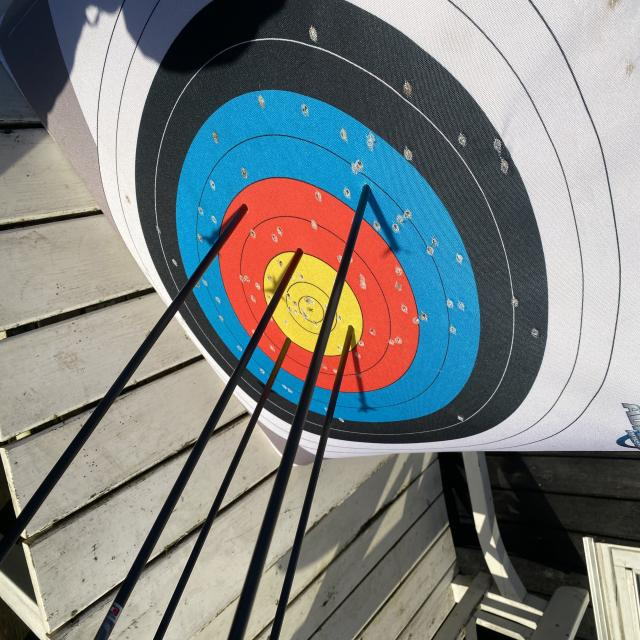Arrow_Blue: (356, 170, 390, 210)
Arrow_Red: (231, 188, 260, 228), (276, 326, 295, 362), (291, 238, 308, 270)
Arrow_Yellow: (343, 314, 363, 349)
